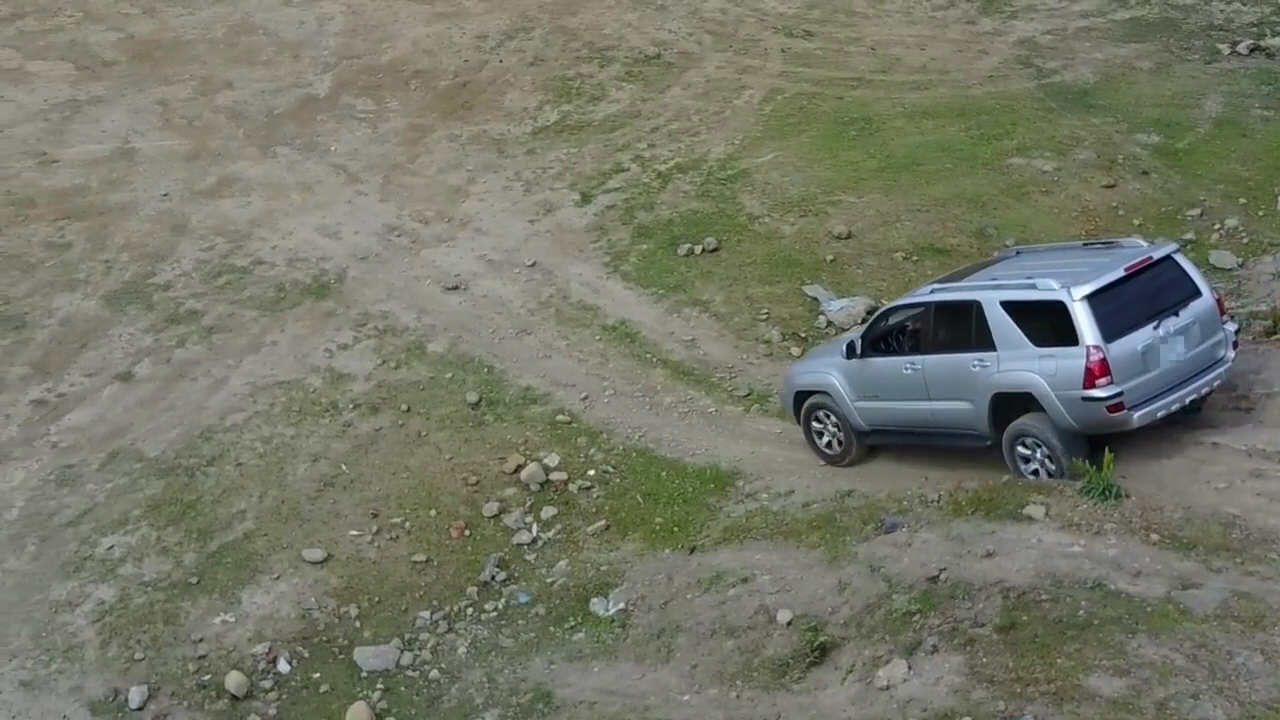araba: (779, 241, 1239, 483)
